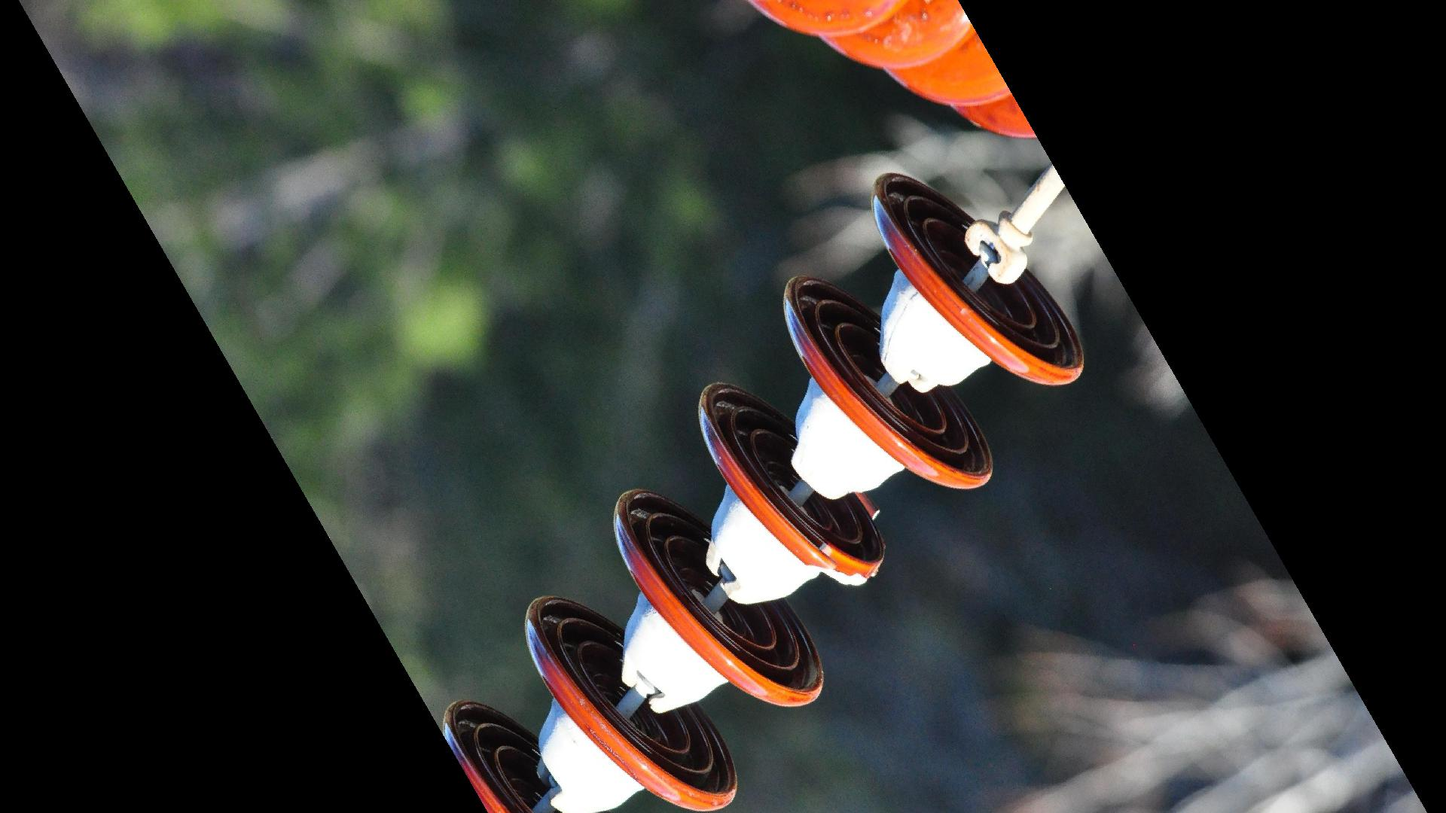insulator: (438, 165, 1094, 813), (744, 1, 1046, 146)
insulator_breakage: (804, 497, 904, 598)
